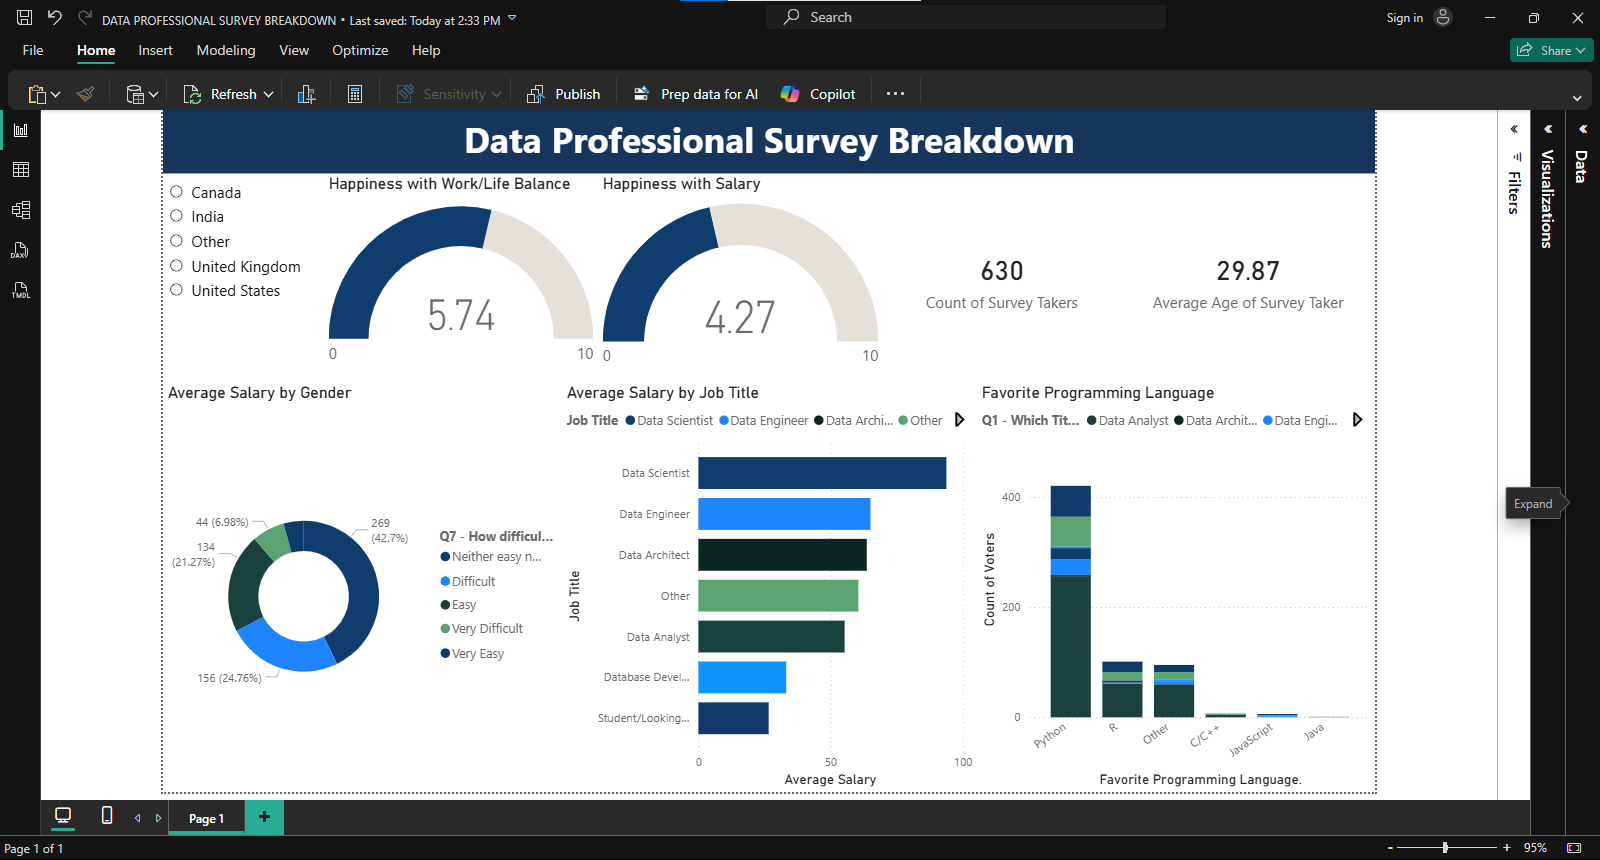

This screenshot's page, from the dashboard's own definition file:
{"tool":"powerbi","page":{"name":"Page 1","canvas":[1280,720],"ordinal":0},"visuals":[{"type":"textbox","box":[0,0,1280.3,67.1],"z":0},{"type":"card","fields":{"Values":["CountNonNull(Data Professional Survey.Unique ID)"]},"box":[760.5,67.1,251.2,221.1],"z":1000},{"type":"card","fields":{"Values":["Avg(Data Professional Survey.Q10 - Current Age)"]},"box":[1011.7,67.1,268.6,221.1],"z":2000},{"type":"barChart","title":"Average Salary by Job Title","fields":{"Category":["Data Professional Survey.Q1 - Which Title Best Fits your Current Role?.1"],"Y":["Avg(Data Professional Survey.Average Salary)"],"Series":["Data Professional Survey.Q1 - Which Title Best Fits your Current Role?.1"]},"box":[420.9,288.7,438.2,431.3],"z":3000},{"type":"columnChart","title":"Favorite Programming Language","fields":{"Category":["Data Professional Survey.Q5 - Favorite Programming Language.1"],"Y":["CountNonNull(Data Professional Survey.Unique ID)"],"Series":["Data Professional Survey.Q1 - Which Title Best Fits your Current Role?.1"]},"box":[859.1,288.7,420.9,431.3],"z":4000},{"type":"listSlicer","title":"Country of Survey Takers","fields":{"Values":["Data Professional Survey.Q11 - Which Country do you live in?.1"]},"box":[0,67.1,170.2,219.9],"z":5000},{"type":"gauge","title":"Happiness with Salary","fields":{"Y":["Avg(Data Professional Survey.Q6 - How Happy are you in your Current Position with the following? (Salary))"],"MinValue":["Min(Data Professional Survey.Q6 - How Happy are you in your Current Position with the following? (Salary))"],"MaxValue":["Max(Data Professional Survey.Q6 - How Happy are you in your Current Position with the following? (Salary))"]},"box":[459.5,67.1,301,219.9],"z":6000},{"type":"gauge","title":"Happiness with Work/Life Balance","fields":{"Y":["Avg(Data Professional Survey.Q6 - How Happy are you in your Current Position with the following? (Work/Life Balance))"],"MinValue":["Min(Data Professional Survey.Q6 - How Happy are you in your Current Position with the following? (Work/Life Balance))"],"MaxValue":["Max(Data Professional Survey.Q6 - How Happy are you in your Current Position with the following? (Work/Life Balance))"]},"box":[170.2,67.1,289.4,219.9],"z":7000},{"type":"donutChart","title":"Average Salary by Gender","fields":{"Y":["CountNonNull(Data Professional Survey.Q7 - How difficult was it for you to break into Data?)"],"Category":["Data Professional Survey.Q7 - How difficult was it for you to break into Data?"]},"box":[0,288.7,420.9,431.3],"z":8000}]}

Visuals, with their boxes on the page's 1280x720 design canvas (x1, y1, x2, y2). These are canvas units, not pixel positions in the 1600x860 screenshot, which may show the page scaled, cropped or inside an application window:
textbox: <box>0,0,1280,67</box>
card - CountNonNull(Data Professional Survey.Unique ID): <box>760,67,1012,288</box>
card - Avg(Data Professional Survey.Q10 - Current Age): <box>1012,67,1280,288</box>
"Average Salary by Job Title" barChart: <box>421,289,859,720</box>
"Favorite Programming Language" columnChart: <box>859,289,1280,720</box>
"Country of Survey Takers" listSlicer: <box>0,67,170,287</box>
"Happiness with Salary" gauge: <box>460,67,760,287</box>
"Happiness with Work/Life Balance" gauge: <box>170,67,460,287</box>
"Average Salary by Gender" donutChart: <box>0,289,421,720</box>
